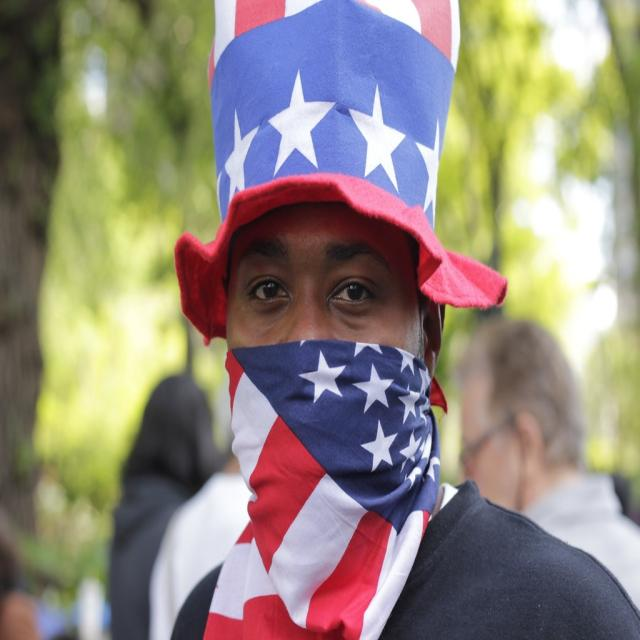hat: (174, 3, 507, 311)
